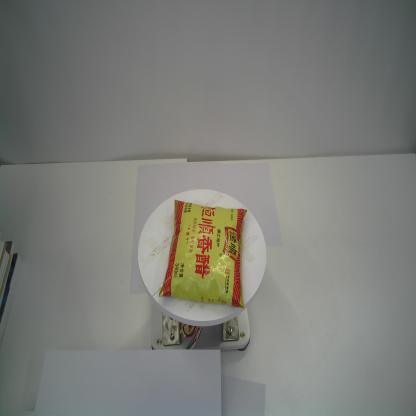Seasoner: (158, 199, 248, 309)
